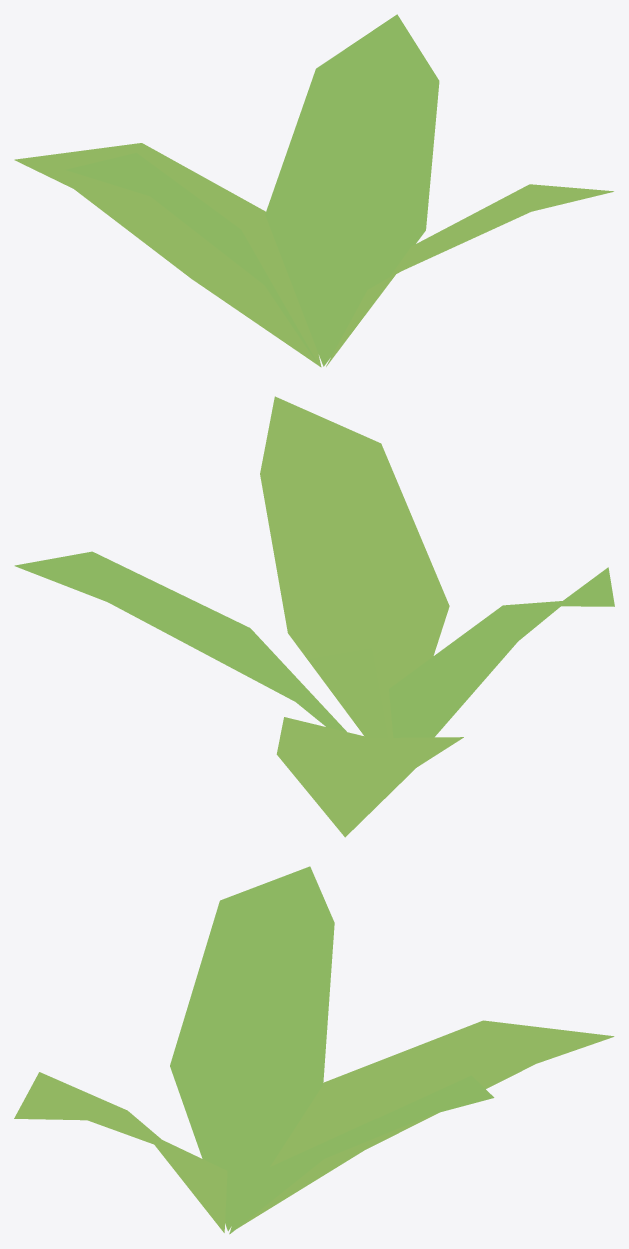
Rendered from Plant_k_TwoS_04.fbx.
The picture shows the model from 3 angles, top to bottom: view 1: azimuth 30°, elevation 25°; view 2: azimuth 150°, elevation 25°; view 3: azimuth 270°, elevation 25°; orthographic projection. The views are drawn at different scales.
Parts seen in each view (by area): view 1: Plant_k_TwoS_04; view 2: Plant_k_TwoS_04; view 3: Plant_k_TwoS_04.
Part boxes in pixels (<box>): Plant_k_TwoS_04: <box>14,14,613,367</box>; Plant_k_TwoS_04: <box>14,396,614,837</box>; Plant_k_TwoS_04: <box>14,866,614,1234</box>.
Bounding box in the file's own units: 0.343 × 0.1771 × 0.3878.
